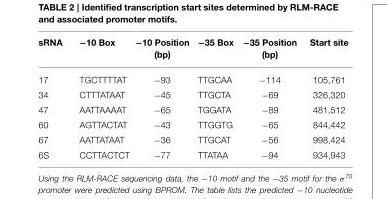table: (37, 37, 347, 159)
table column: (237, 37, 302, 159), (70, 37, 131, 159), (131, 37, 192, 159), (192, 37, 237, 159), (302, 37, 347, 159), (37, 37, 70, 159)
table column header: (37, 37, 347, 66)
table row: (37, 37, 347, 66), (37, 66, 347, 87), (37, 87, 347, 102), (37, 102, 347, 117), (37, 117, 347, 132), (37, 132, 347, 147), (37, 147, 347, 159)
